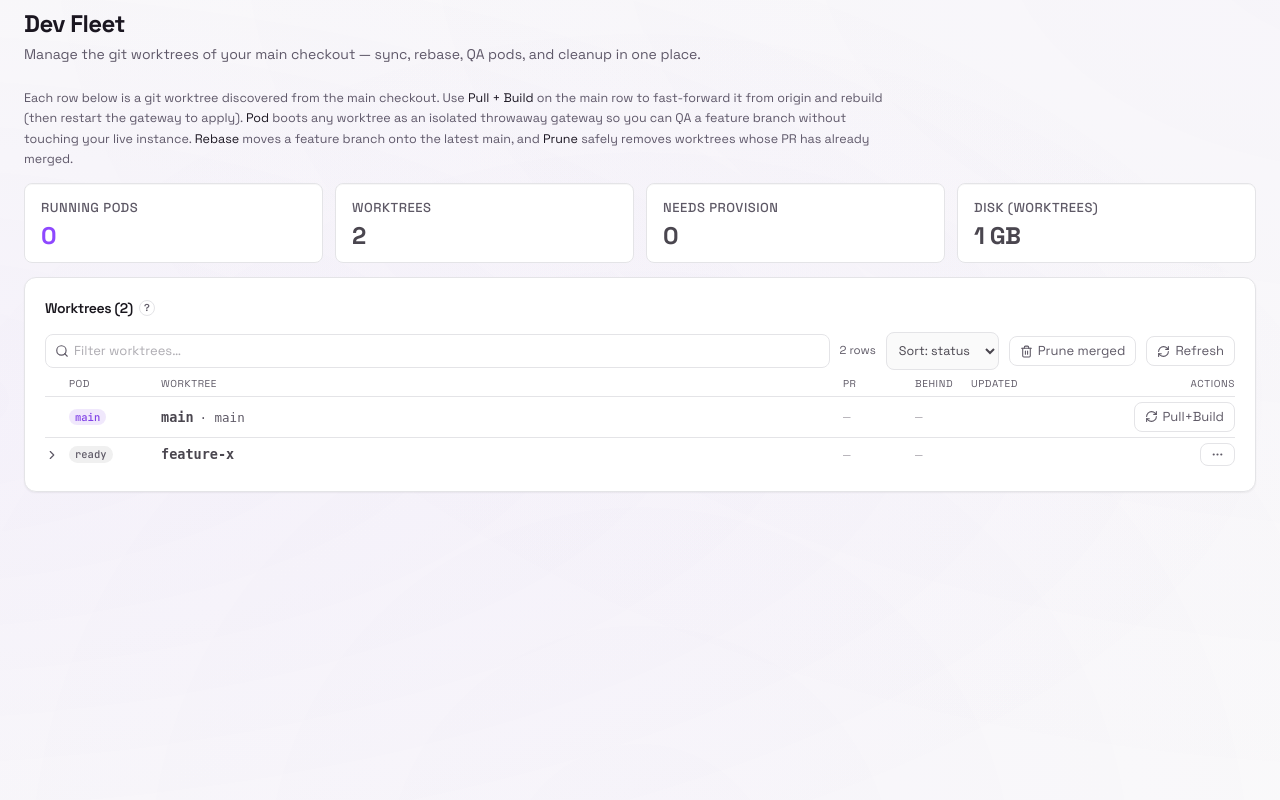
DevFleetPage › drill-in shows issue chips, ticket chips, and the purpose summary
This screenshot has width=1280, height=800.
Check: the text "feature-x" is shown, box [161, 444, 234, 465]
Click the button named "Expand": (53, 454) [45, 448, 61, 462]
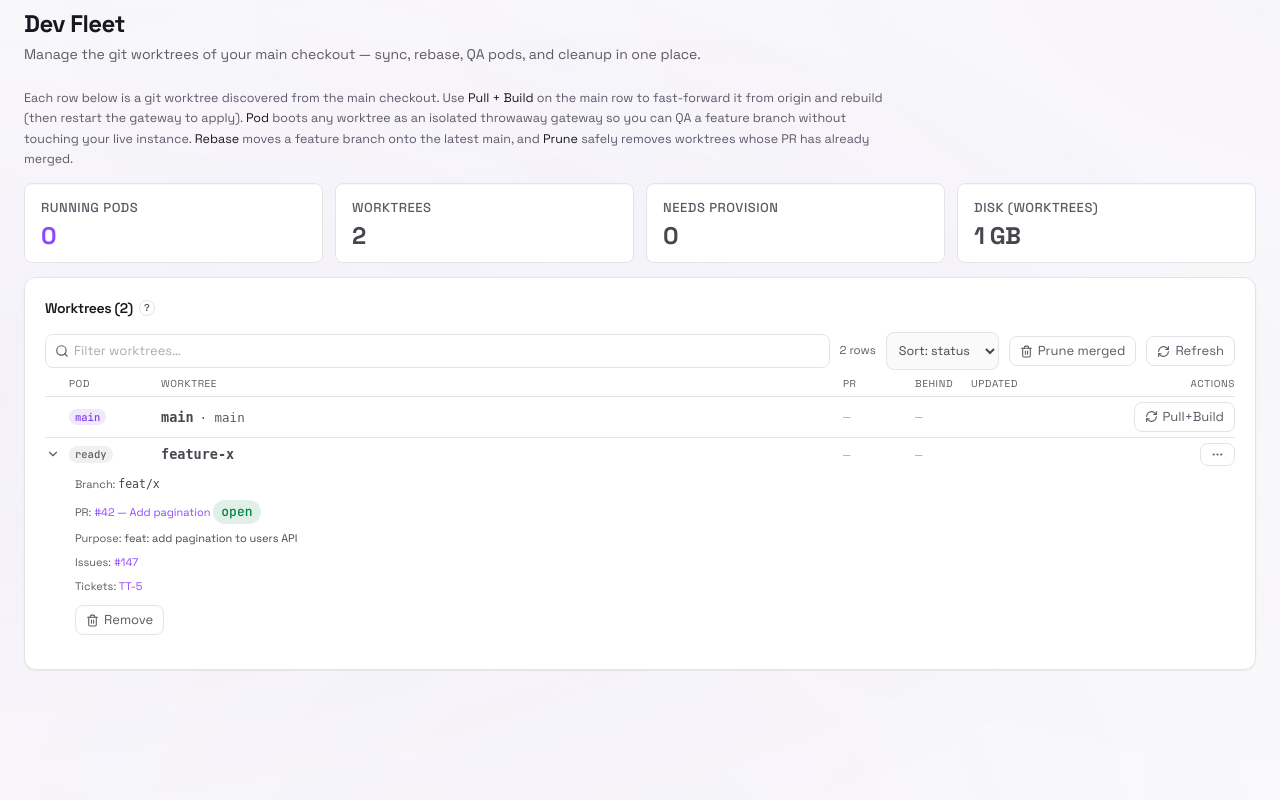
Check: the text "feat: add pagination to users API" is shown, box [124, 531, 297, 545]
